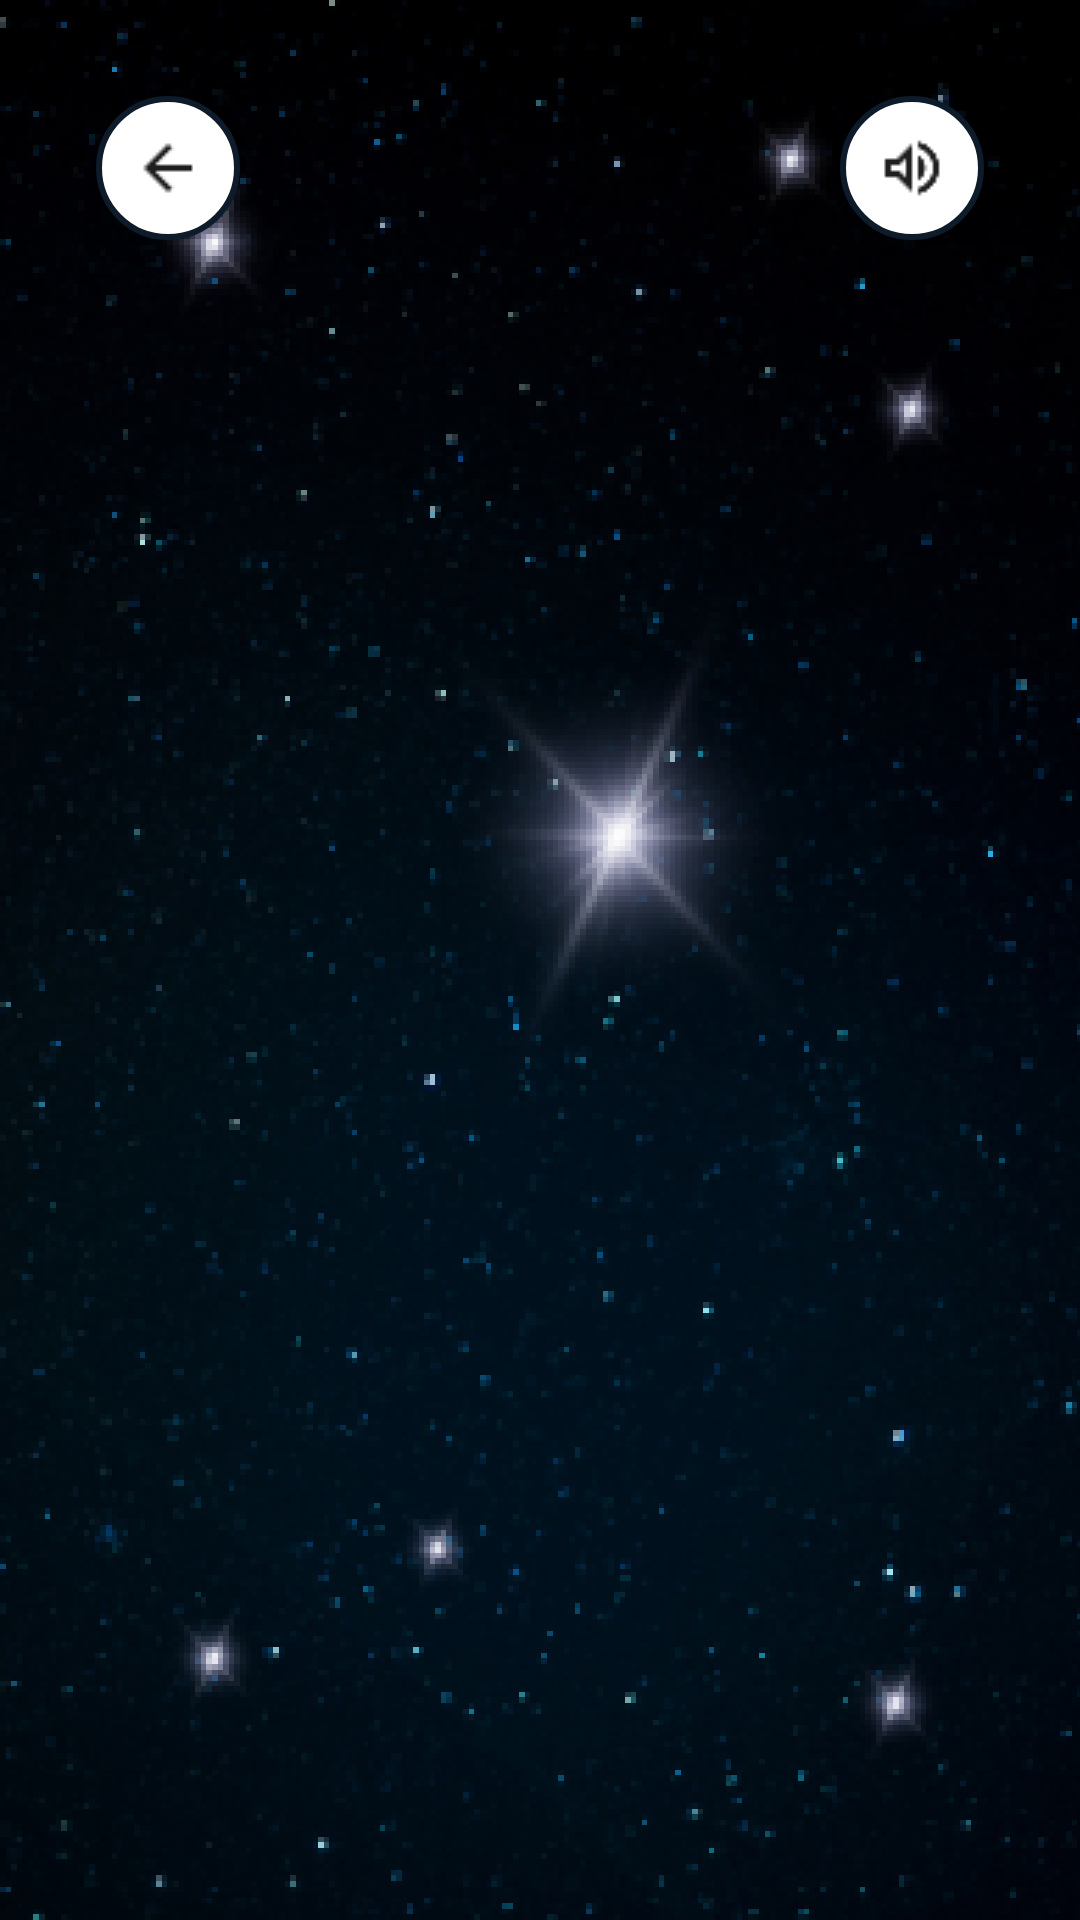

Named icons in this screenshot (1080px x 1920px) and their centers, point (x, y):
Adjust volume: point (912, 168)
Previous: point (168, 168)
